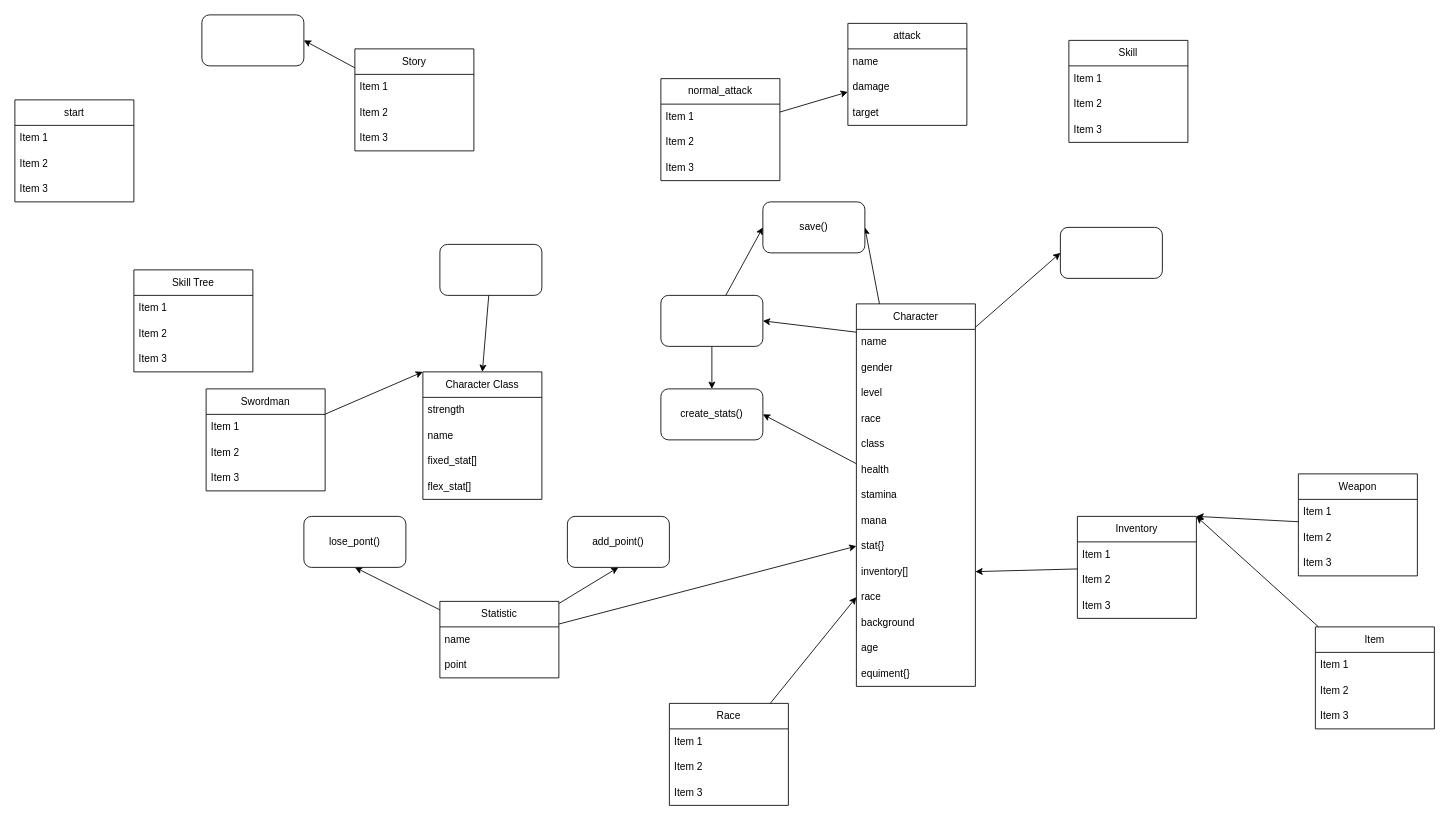
The diagram is 1449 pixels wide and 820 high, and some of its shapes have lost their labels. The centre of each missing label's shape, as x and y in pixels:
create(): point (711, 320)
get_story(): point (252, 40)
load(): point (1111, 252)
load_data(): point (490, 269)
